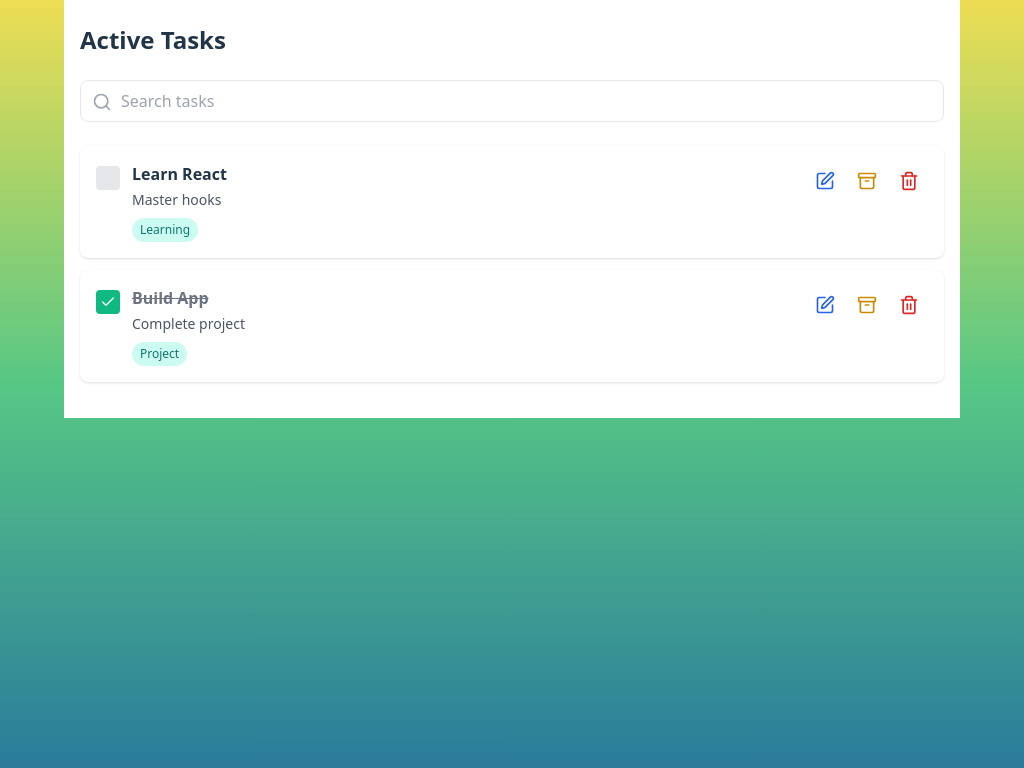
it: Task List Integration Tests › should clear search when X button clicked
This screenshot has width=1024, height=768.
Step 1. Type "React" into the field with placeholder "Search tasks" → (512, 101), box left=80, top=80, right=944, bottom=122
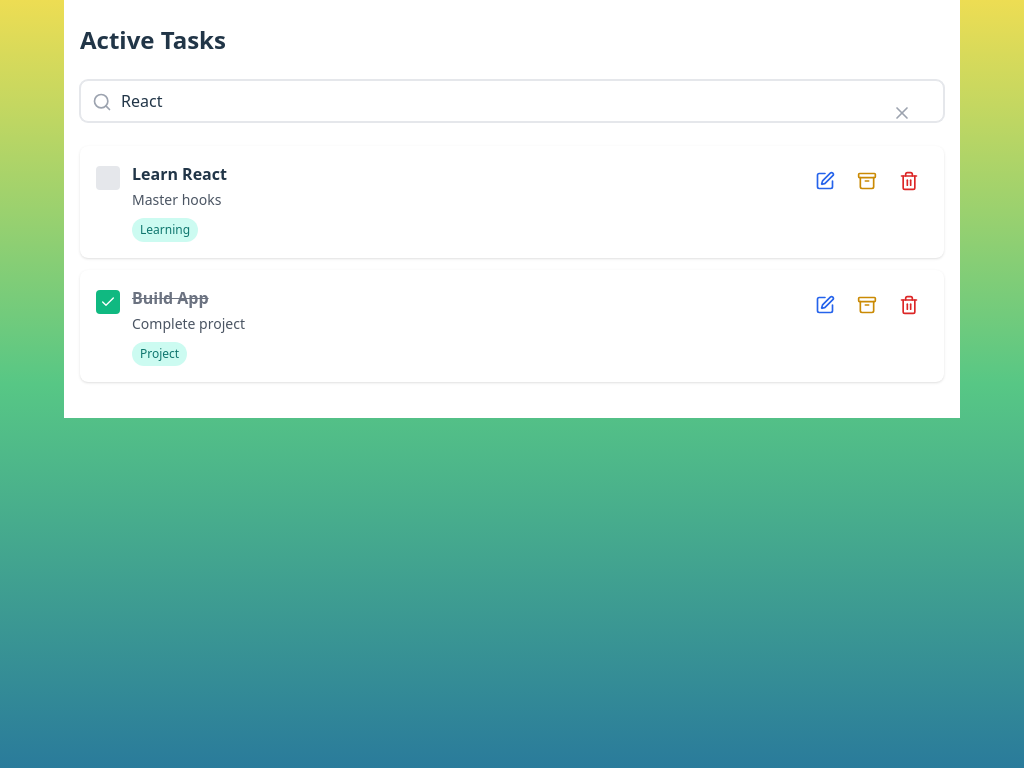
Step 2. Click the button titled "Clear search" → (902, 113), box left=872, top=92, right=932, bottom=133
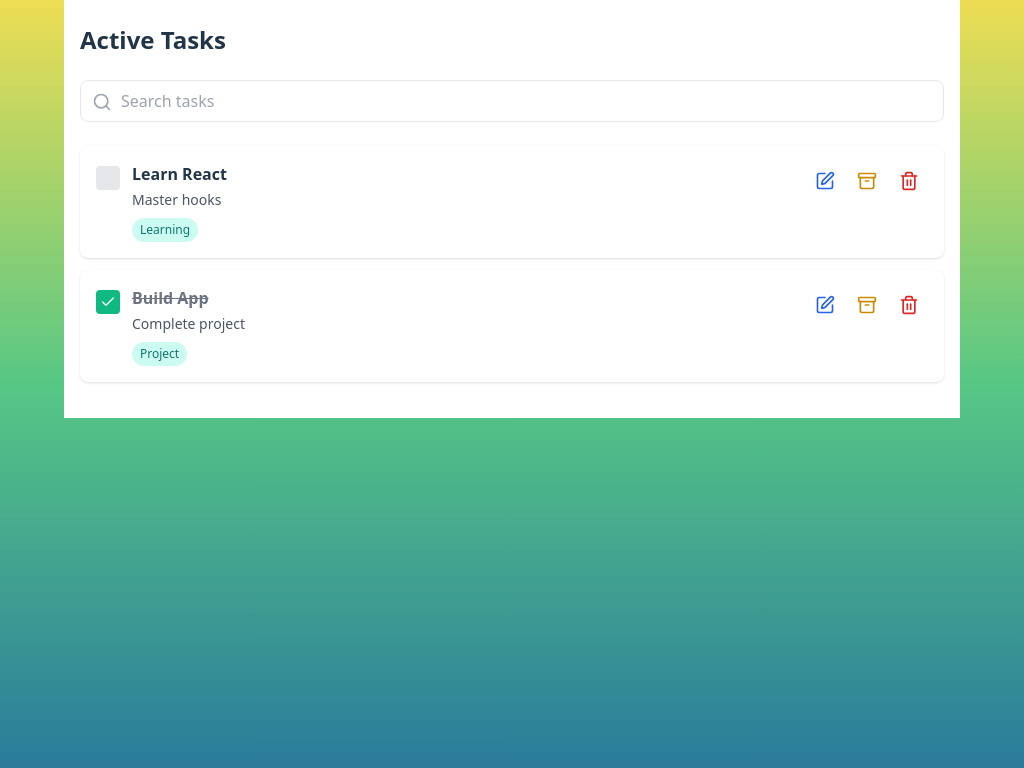
Now the field with placeholder "Search tasks" is empty, box left=80, top=80, right=944, bottom=122
